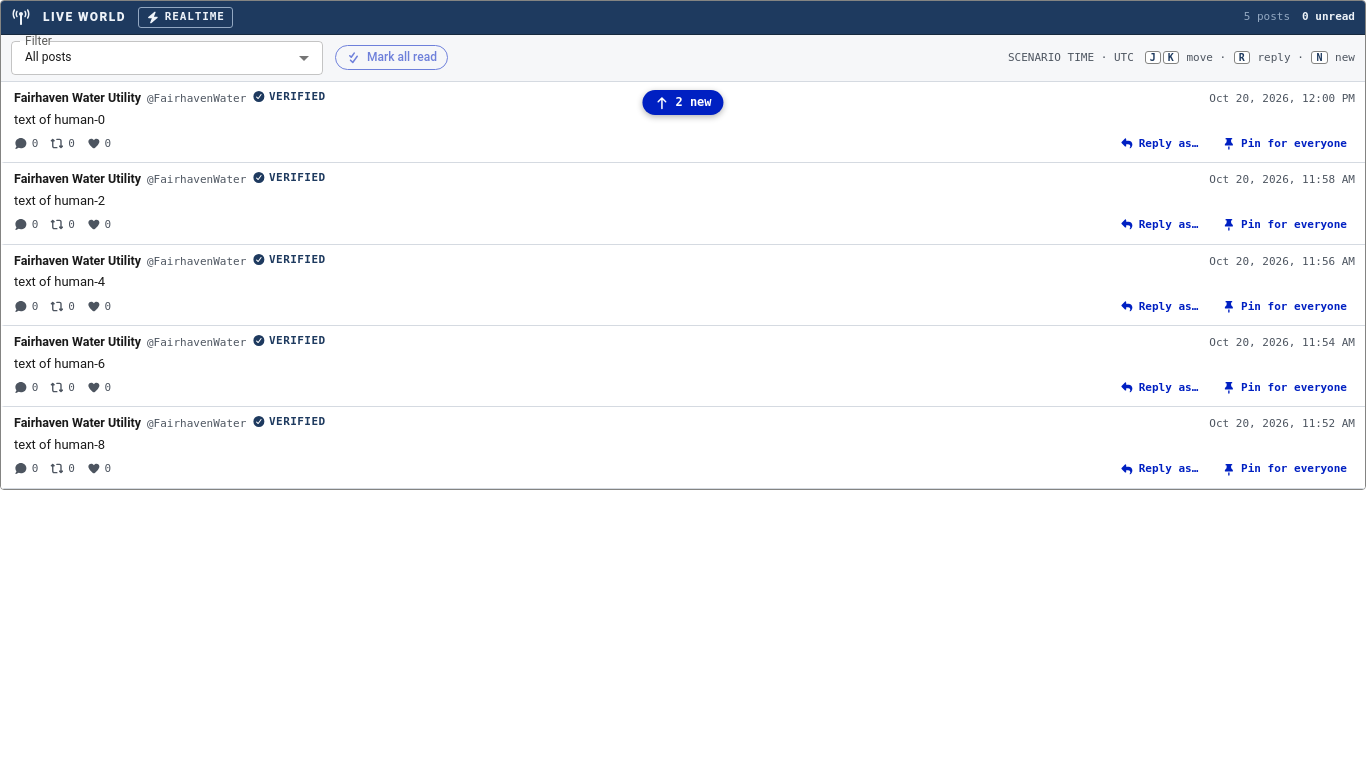
Test: Live World "N new" with noise › merged noise posts land at the TOP when stamped by the one (server) clock
(page scrolled)
Click the button with test id "live-world-new".
click(683, 102)  # box [642,90,724,115]
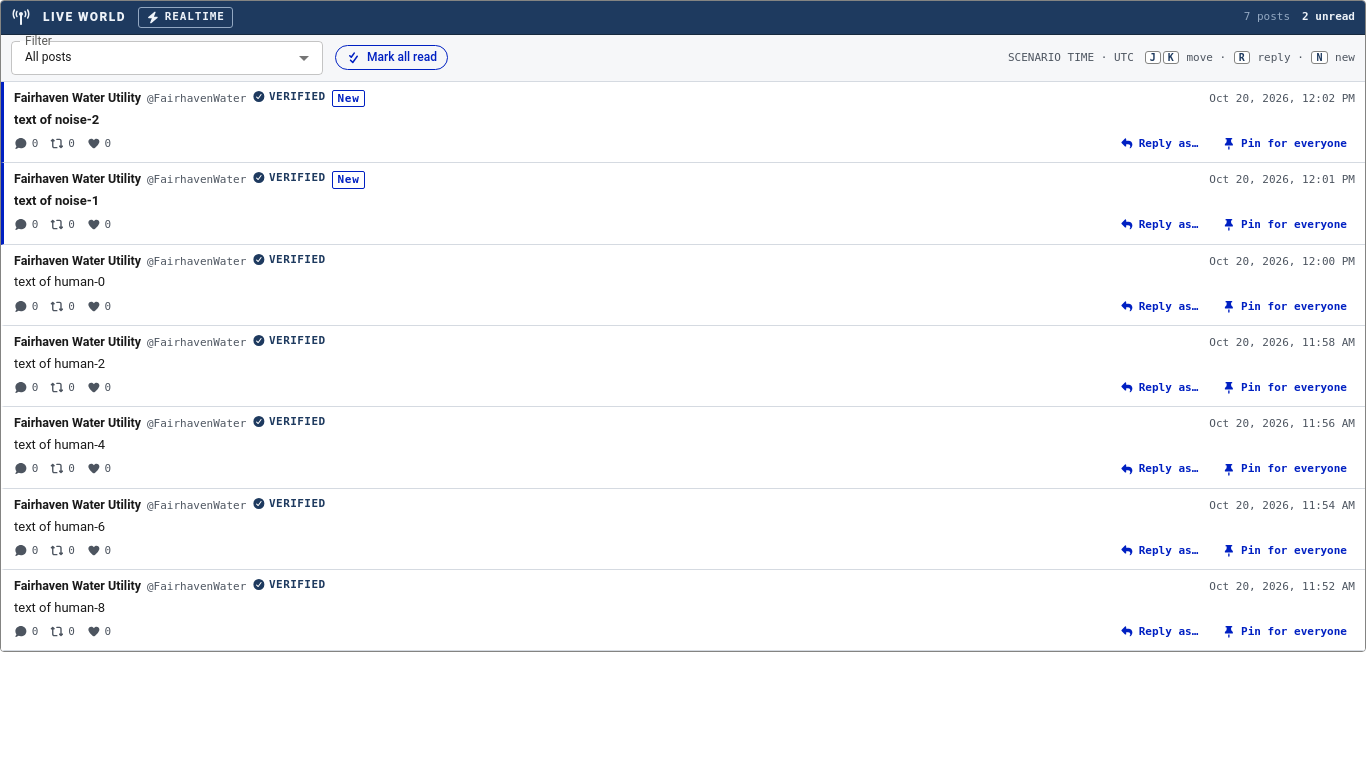
Check: the button with test id "live-world-new" is gone
